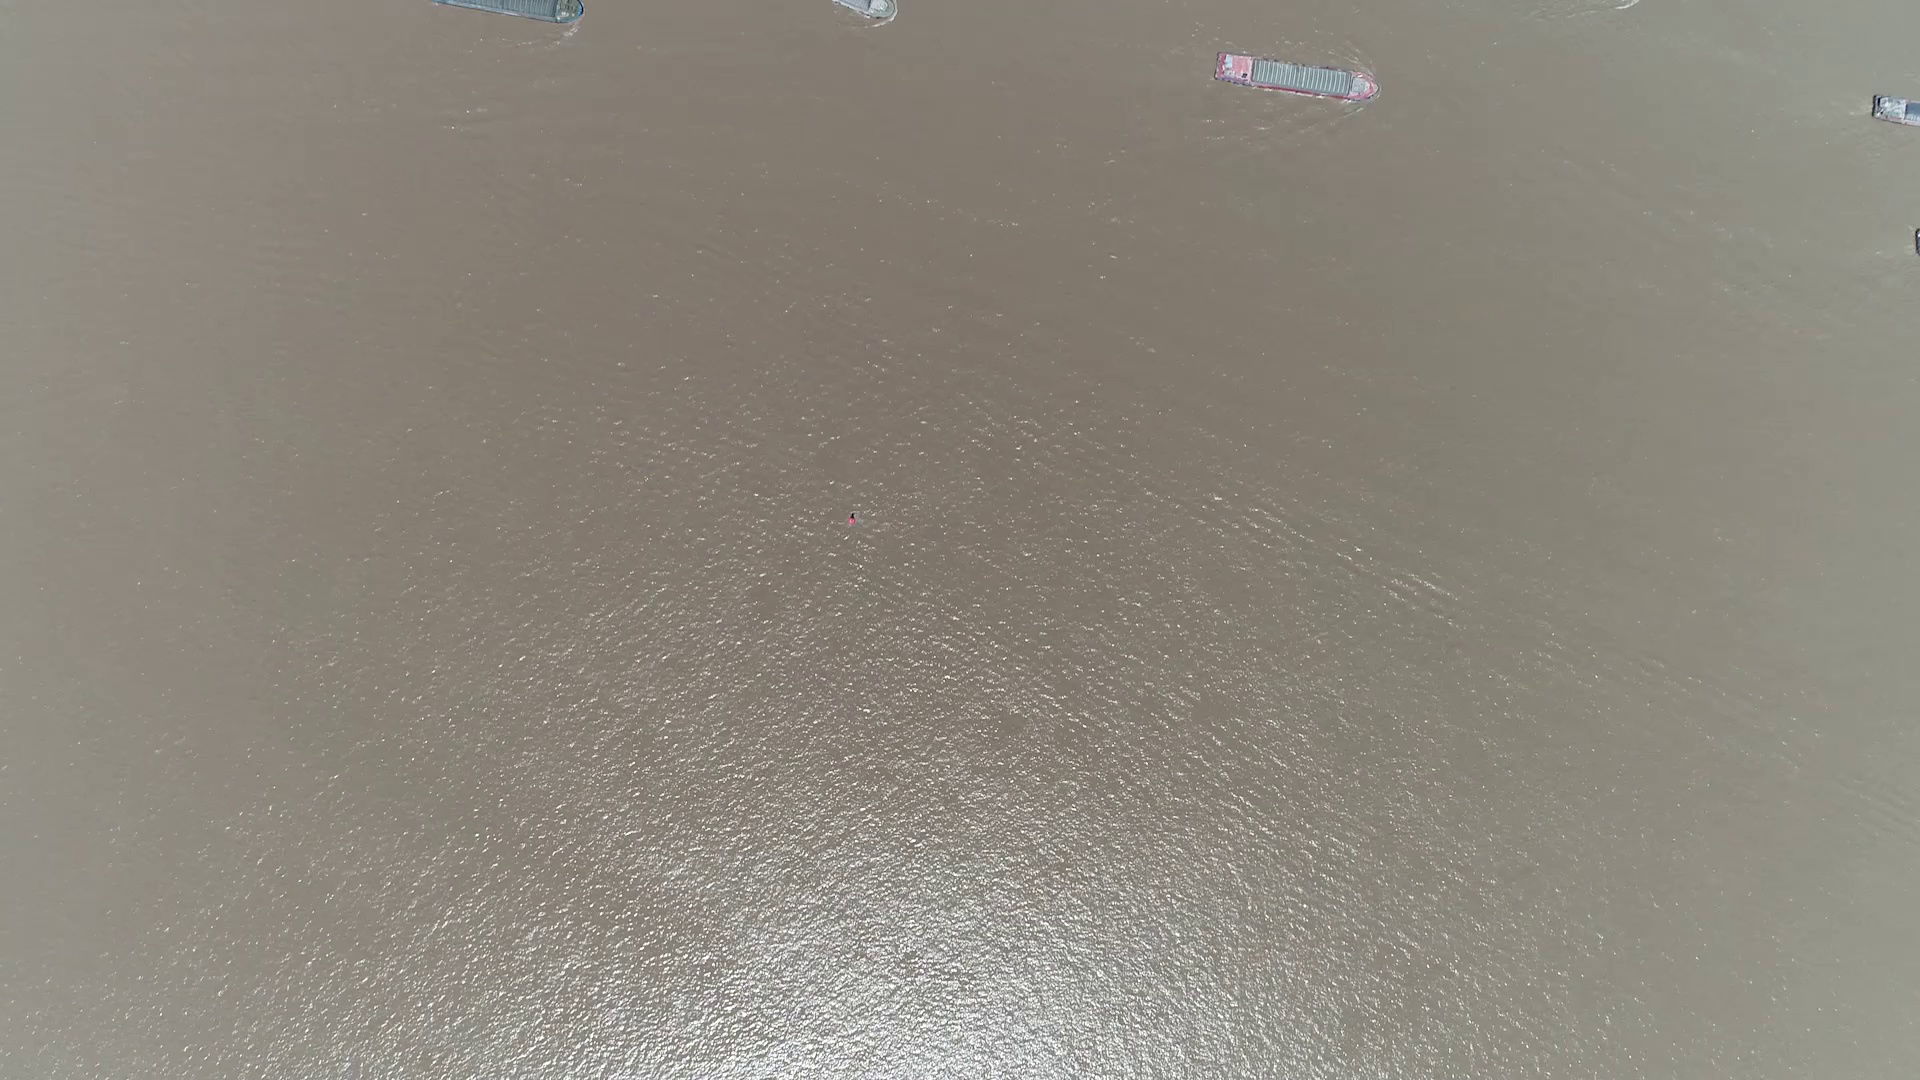ship: (1211, 58, 1375, 102)
